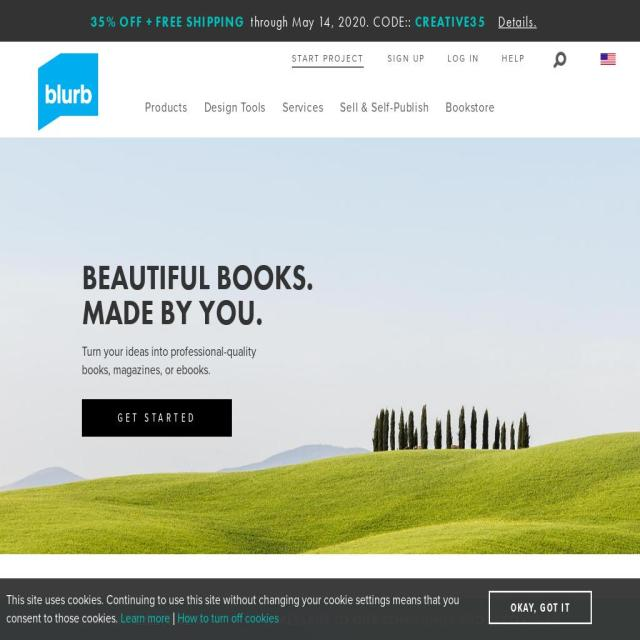button: (90, 12, 550, 30), (264, 607, 560, 631), (82, 398, 232, 437), (488, 591, 592, 624), (80, 607, 202, 631), (340, 98, 429, 118), (204, 98, 266, 118), (292, 52, 364, 68), (40, 84, 100, 102), (446, 98, 495, 118), (145, 98, 187, 118), (594, 52, 622, 69)
field: (548, 44, 572, 74)
heading: (25, 612, 640, 640), (82, 254, 314, 300), (82, 289, 263, 335)
image: (38, 54, 98, 134), (600, 53, 616, 65)
link: (91, 11, 248, 31), (178, 610, 280, 627), (415, 11, 489, 31), (121, 610, 170, 627), (387, 53, 425, 64), (448, 53, 480, 64), (502, 53, 525, 64)
text: (7, 592, 460, 626), (248, 11, 416, 31), (82, 342, 256, 360), (81, 361, 210, 378), (492, 11, 537, 31), (282, 98, 324, 118), (170, 610, 178, 627)
